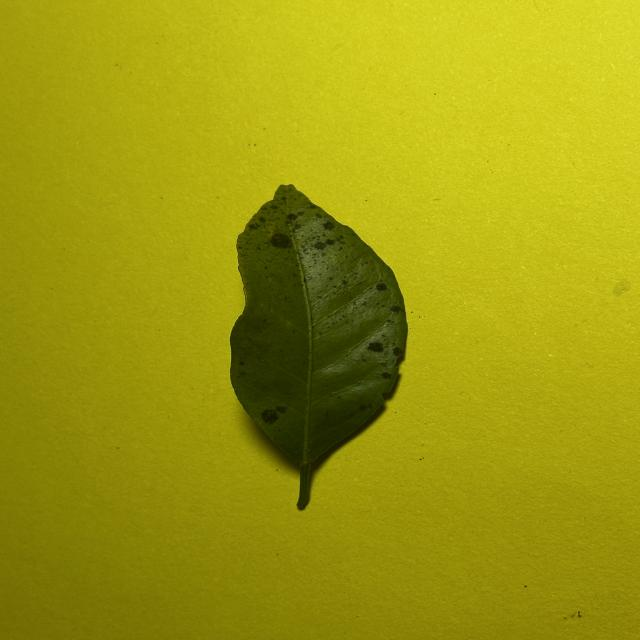sooty_mold: (230, 185, 407, 509)
